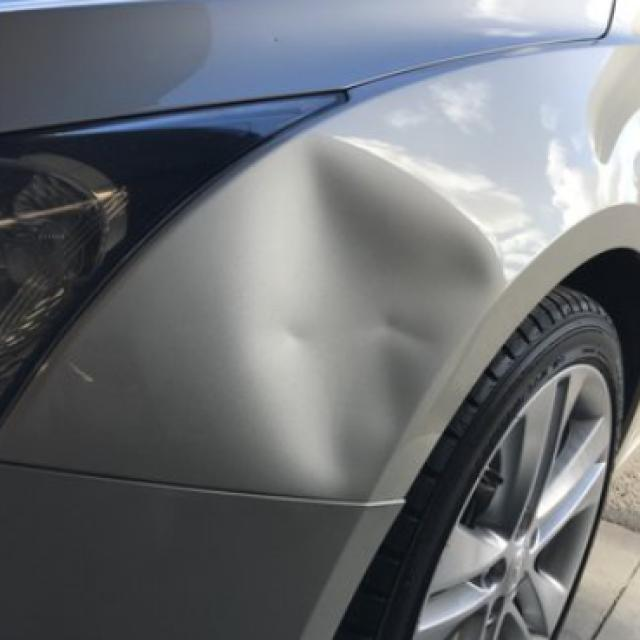dents: (372, 296, 463, 356), (268, 311, 336, 364)
